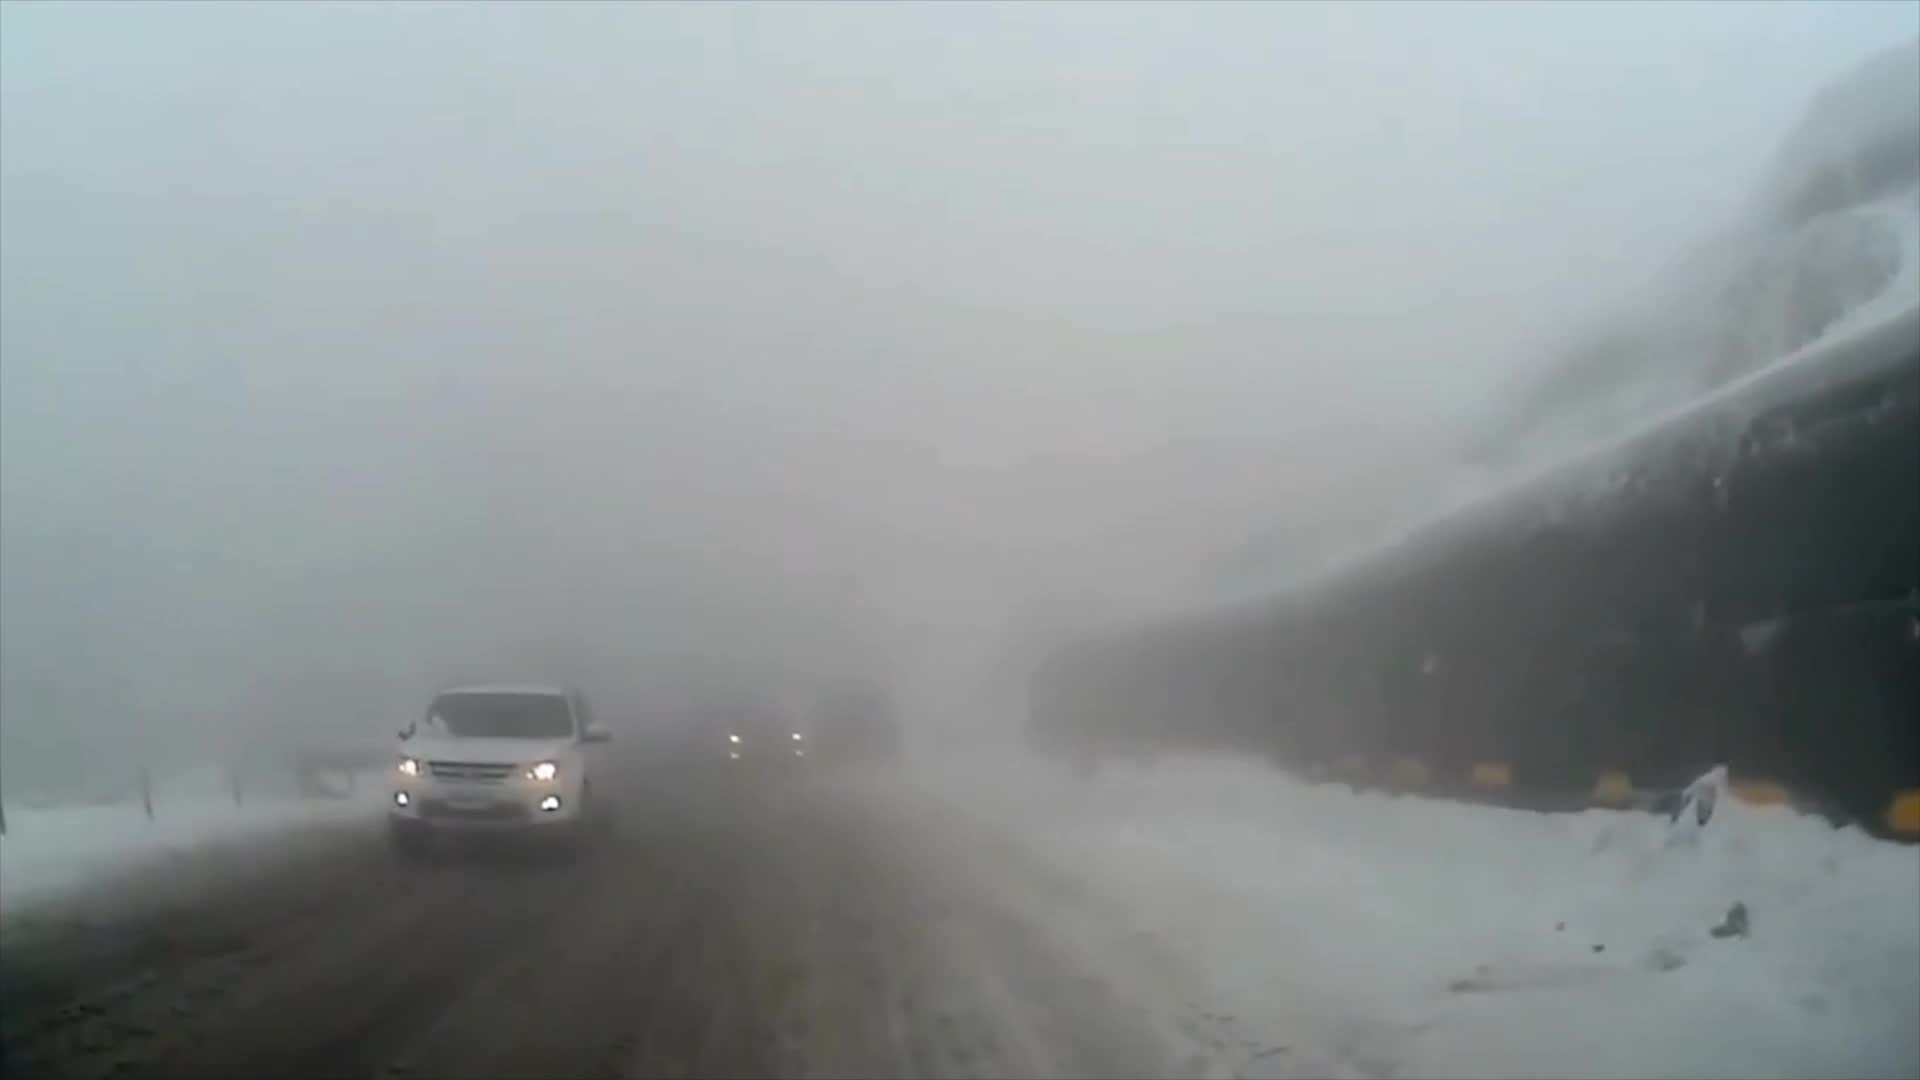vehicle: (382, 675, 618, 857), (684, 692, 807, 786)
